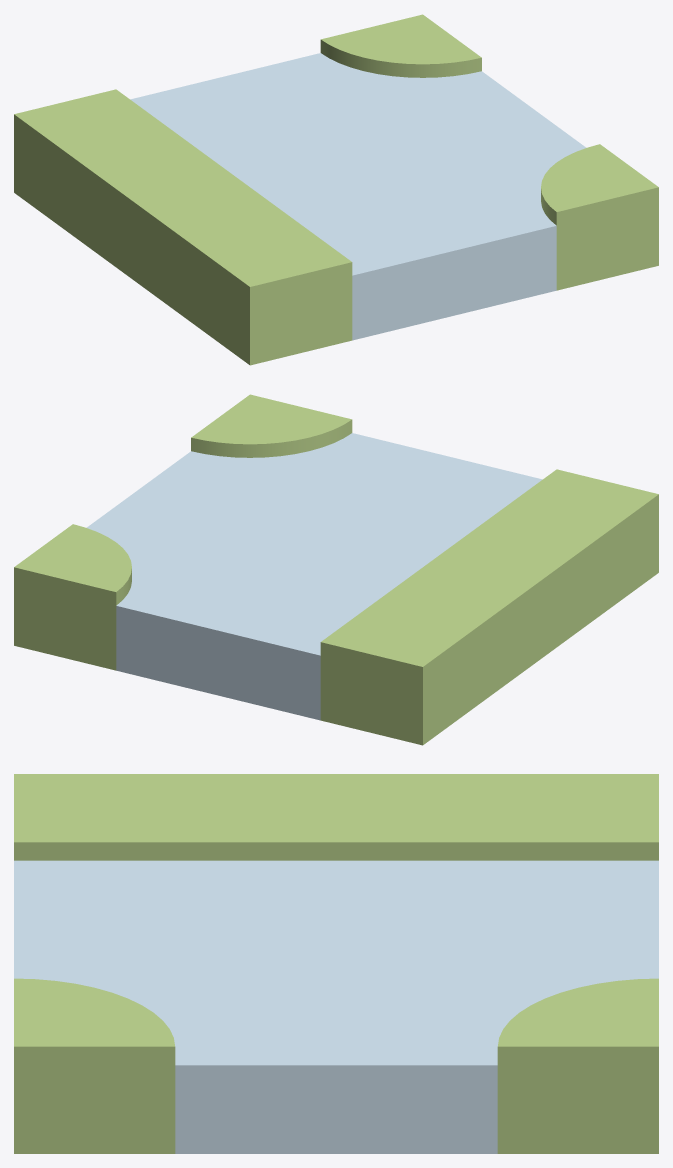
The model's file is road_tile_178.glb.
3 views of the same model, one above another, from view 1: azimuth 30°, elevation 25°; view 2: azimuth 150°, elevation 25°; view 3: azimuth 270°, elevation 25° (orthographic). The views are drawn at different scales.
Visible parts, largest first — view 1: roadTile_178; view 2: roadTile_178; view 3: roadTile_178.
Part boxes in pixels (box(x1,y1,x2,y2)): roadTile_178: box(14, 14, 658, 365); roadTile_178: box(14, 394, 658, 745); roadTile_178: box(14, 774, 658, 1153).
Bounding box in the file's own units: 3 × 0.55 × 3.
